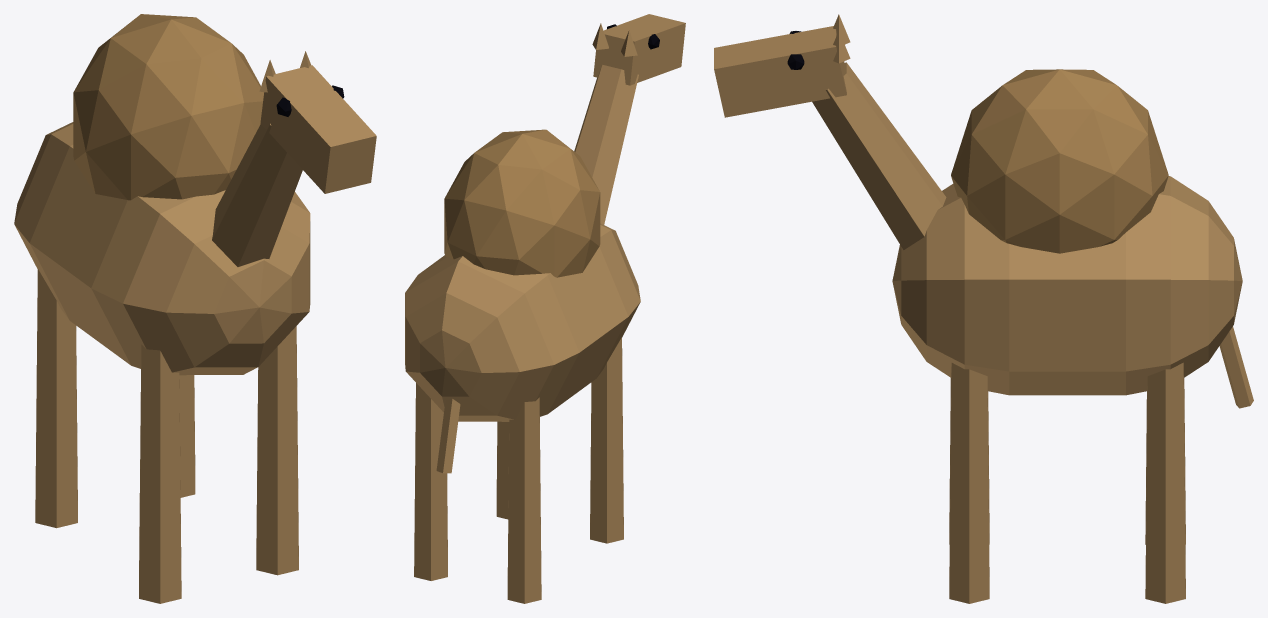
The model's file is unta.glb.
3 views of the same model, side by side, from view 1: azimuth 30°, elevation 25°; view 2: azimuth 150°, elevation 25°; view 3: azimuth 270°, elevation 25° (orthographic). The views are drawn at different scales.
Visible parts, largest first — view 1: kbs_unta, object 3, object 2; view 2: kbs_unta, object 2, object 3; view 3: kbs_unta, object 2, object 3.
Boxes of the visible parts, x1,y1,x2,y2 form: kbs_unta: (14,14,310,603); object 3: (259,51,376,193); object 2: (212,123,302,266); kbs_unta: (405,129,640,603); object 2: (574,64,638,224); object 3: (592,14,685,85); kbs_unta: (892,69,1253,603); object 2: (812,62,946,249); object 3: (714,14,850,117).
Bounding box in the file's own units: 0.7387 × 2 × 1.8.
